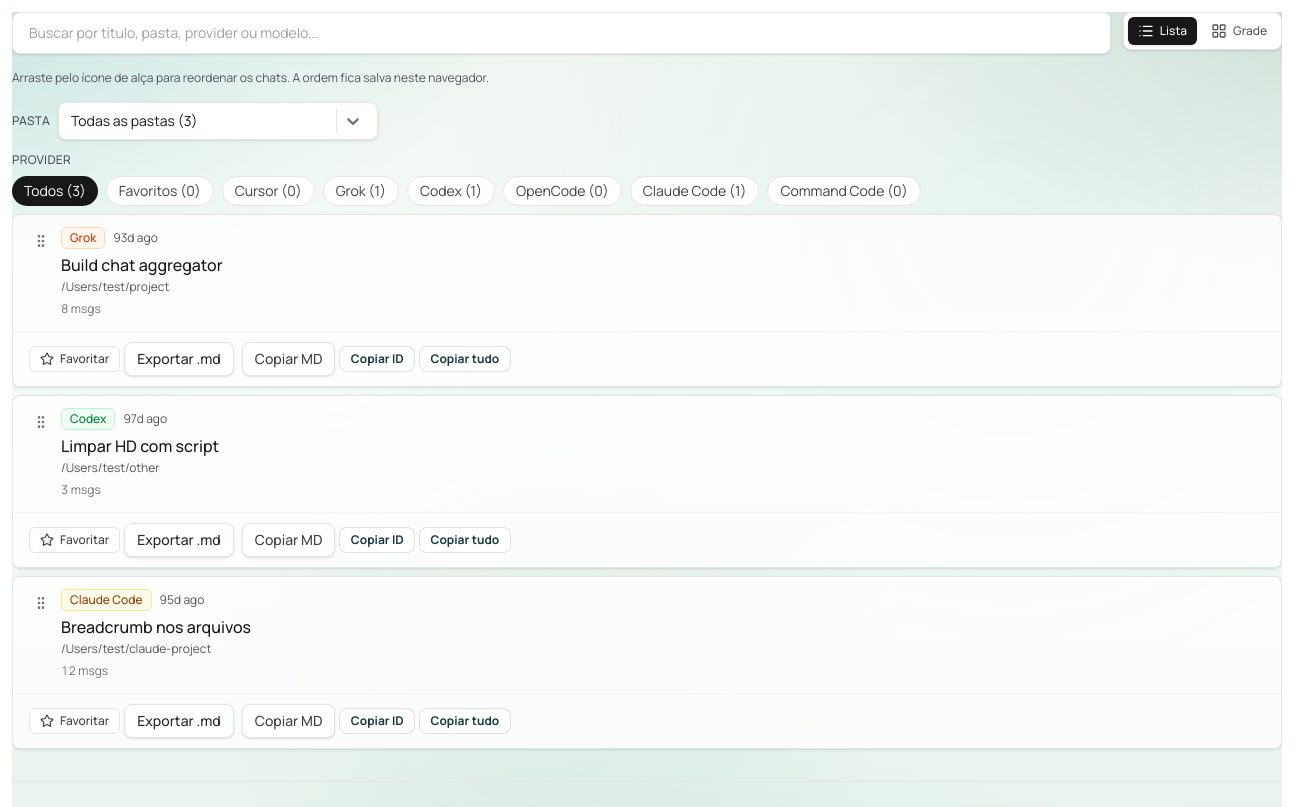
ChatList › lists one folder option per cwd
Expected: the text "Todas as pastas (3)" is shown, [71,111,197,130]
Press the mouse on the dropdown labelled "Pasta": (72, 121) [71,111,74,131]
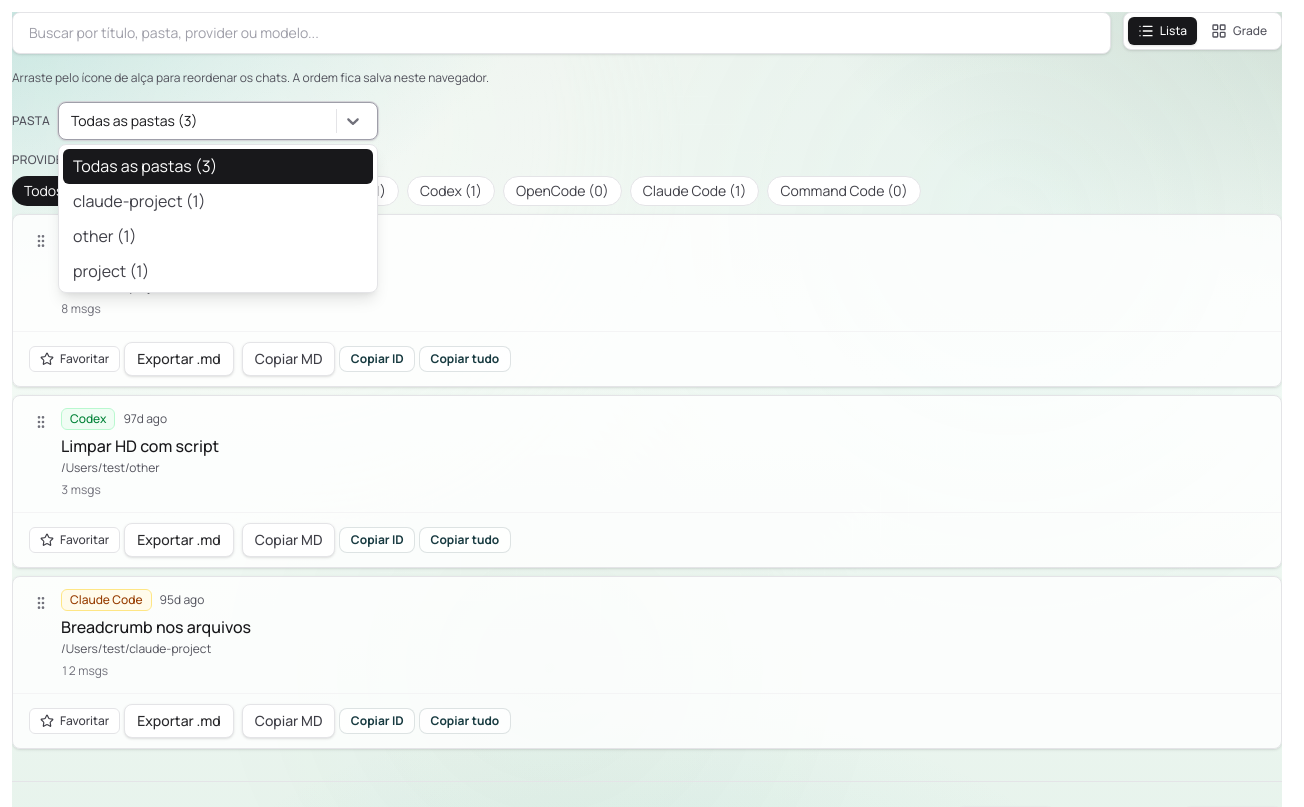
Now the options read "Todas as pastas (3)", "claude-project (1)", "other (1)", "project (1)", in this order, box [63,149,373,184]; [73,190,206,212]; [73,225,137,247]; [73,260,149,282]
